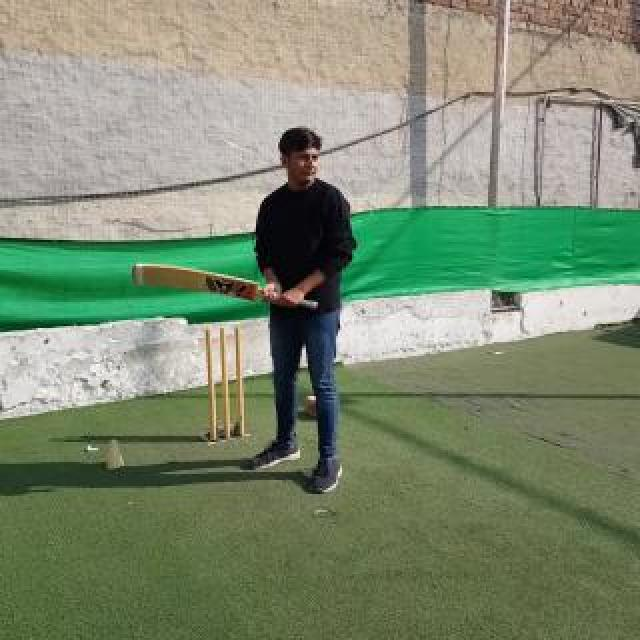bat: (132, 264, 318, 310)
